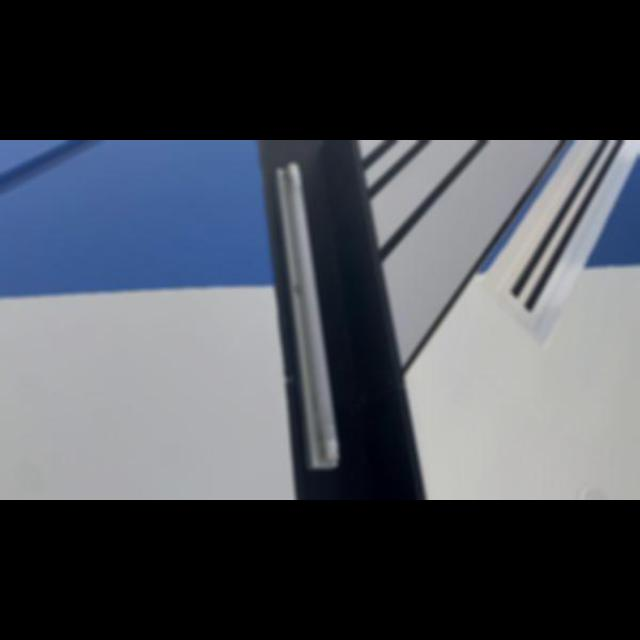Straight-Tube-Fluorescent-Lamp: (260, 156, 356, 474)
